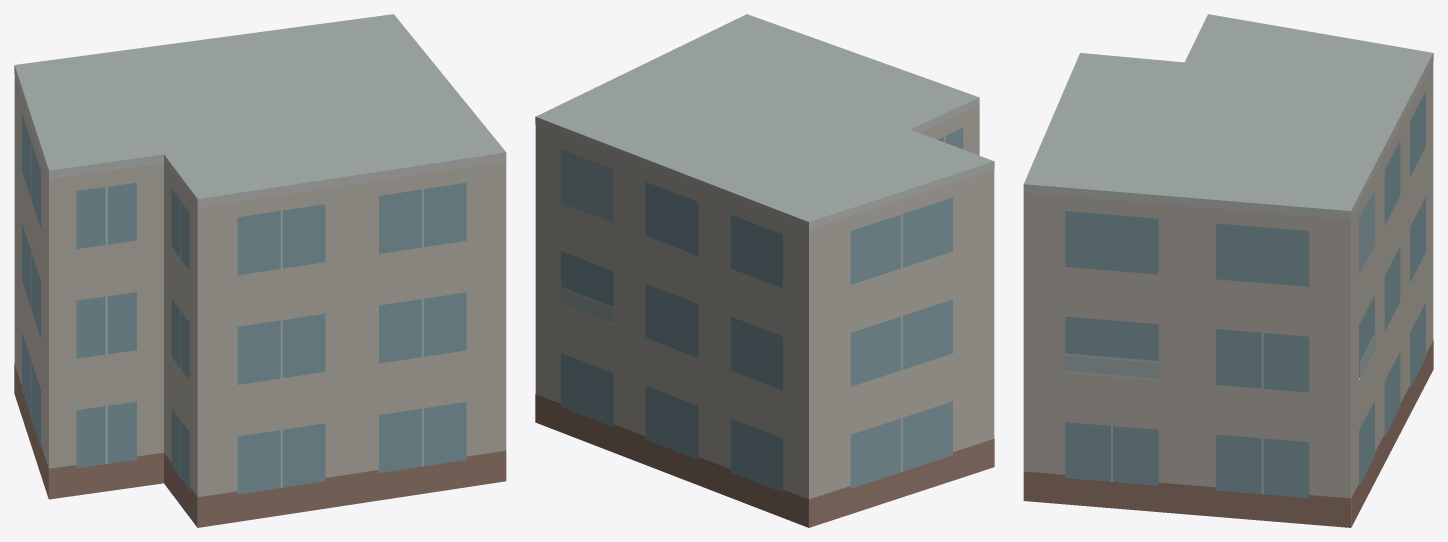
Rendered from survey-upis-32544071.glb.
The picture shows the model from 3 angles, left to right: view 1: azimuth 30°, elevation 25°; view 2: azimuth 150°, elevation 25°; view 3: azimuth 270°, elevation 25°; orthographic projection. The views are drawn at different scales.
Visible parts, largest first — view 1: survey-upis-32544071.tmp; view 2: survey-upis-32544071.tmp; view 3: survey-upis-32544071.tmp.
Boxes of the visible parts, bbox=[...] form: survey-upis-32544071.tmp: bbox=[14, 14, 506, 527]; survey-upis-32544071.tmp: bbox=[535, 14, 994, 527]; survey-upis-32544071.tmp: bbox=[1023, 14, 1433, 527].
Size of the model in its own units: 12.22 by 9.15 by 10.73.
